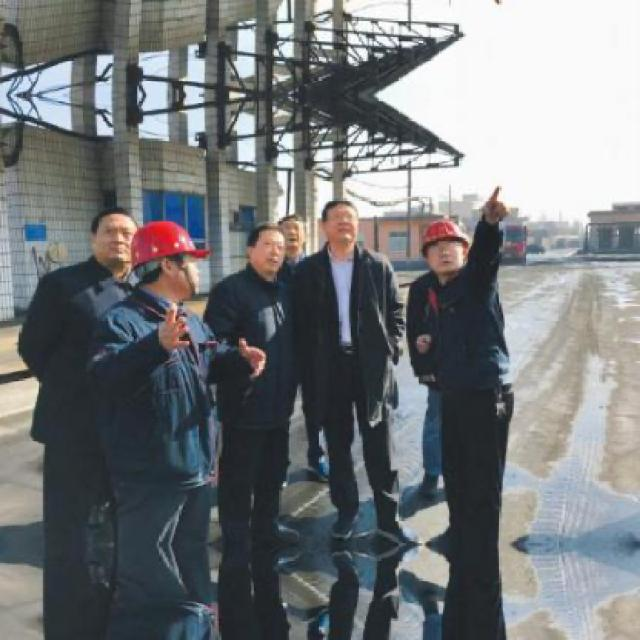con casco: (404, 208, 518, 273), (121, 220, 203, 278)
sin casco: (68, 187, 152, 266), (237, 216, 314, 277), (296, 180, 362, 236)
